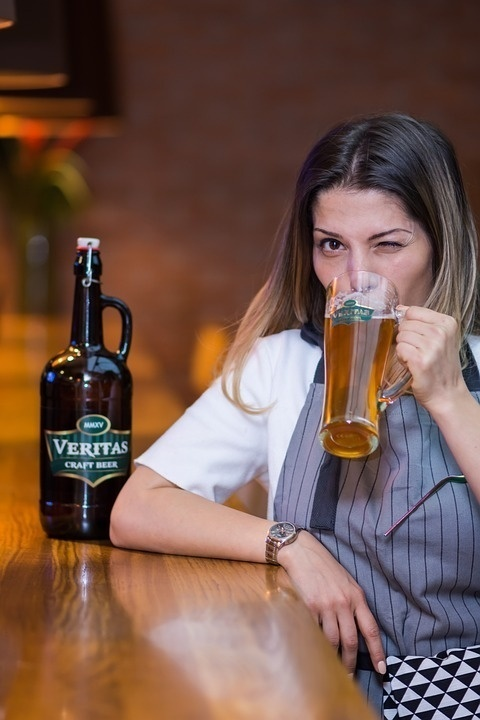whiskey: (318, 279, 397, 452)
